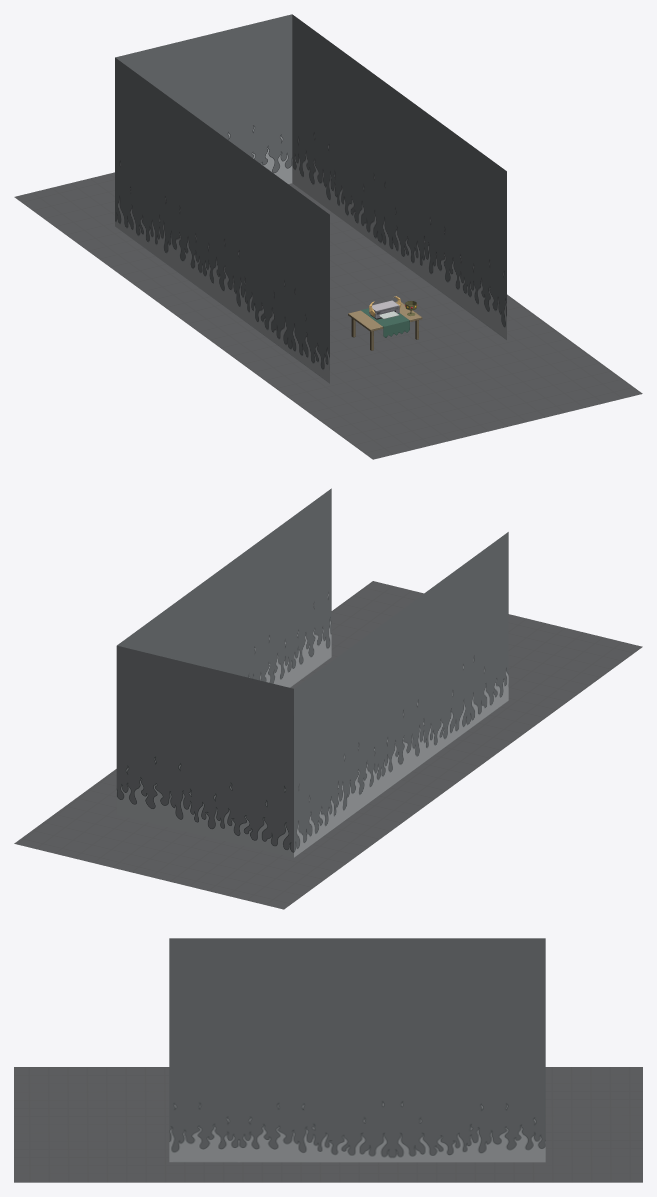
3 renders of one model, top to bottom at view 1: azimuth 30°, elevation 25°; view 2: azimuth 150°, elevation 25°; view 3: azimuth 270°, elevation 25°, orthographic. The views are drawn at different scales.
Visible parts, largest first — view 1: Wall, Floor; view 2: Wall, Floor; view 3: Wall, Floor.
Boxes of the visible parts, x1,y1,x2,y2 form: Wall: [115, 14, 506, 383]; Floor: [14, 172, 642, 459]; Wall: [116, 488, 508, 857]; Floor: [14, 581, 642, 909]; Wall: [169, 938, 545, 1162]; Floor: [14, 1067, 642, 1182].
Bounding box in the file's own units: 305 × 182 × 702.
